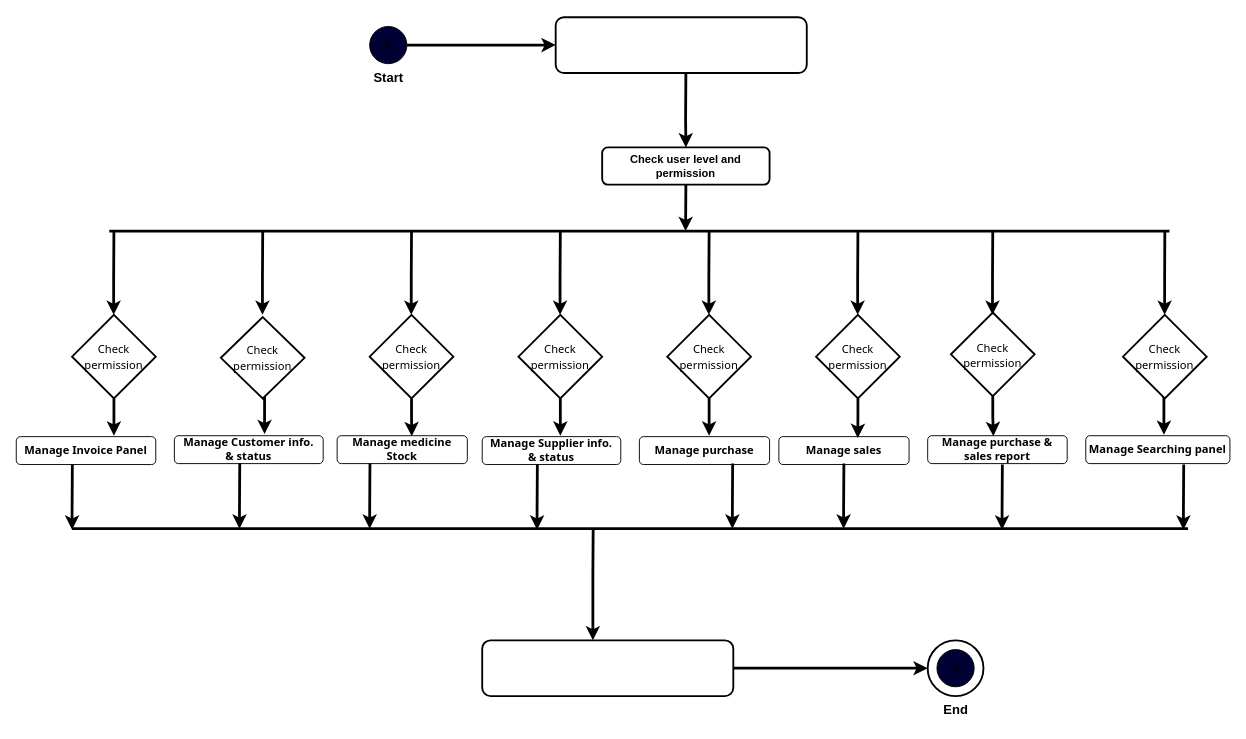
This 1246x739 diagram has some shape labels left out. The centre of each missing label's shape, as x and y in pixels:
Log in to the Pharmacy management System: point (680, 44)
Log out from the System: point (607, 668)
